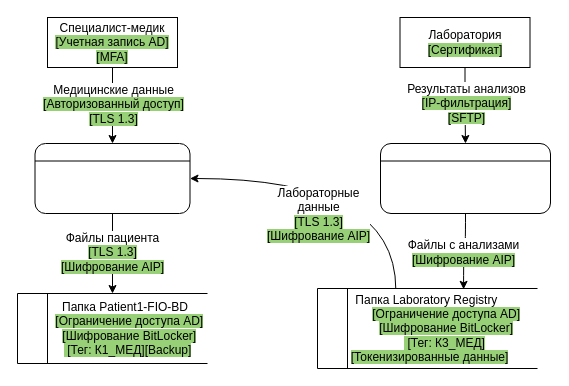
Image size: 569x386. Some labels were removed from this diagram. The shapes that lost their labels are listed below. From the top down, each one's box as (x1, y1, x2, y2) in pixels, then its label:
(34, 142, 190, 214): Ввод медицинских данных [Аудит доступа] [Тегирование AIP]
(380, 142, 550, 214): Интеграция с лабораторией [Антивирус] [Тегирование AIP]
